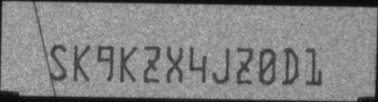0: (258, 47, 276, 85)
1: (305, 46, 321, 86)
4: (189, 47, 208, 82)
9: (97, 43, 115, 82)
D: (281, 47, 302, 86)
J: (212, 47, 231, 83)
K: (119, 45, 138, 83), (73, 44, 91, 82)
S: (50, 42, 67, 80)
X: (164, 44, 184, 83)
Z: (143, 44, 161, 84), (235, 47, 253, 84)
